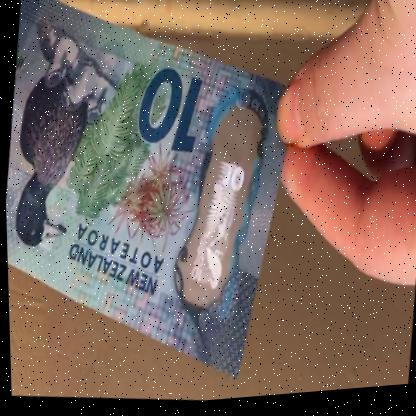10F: (180, 149, 247, 304)
